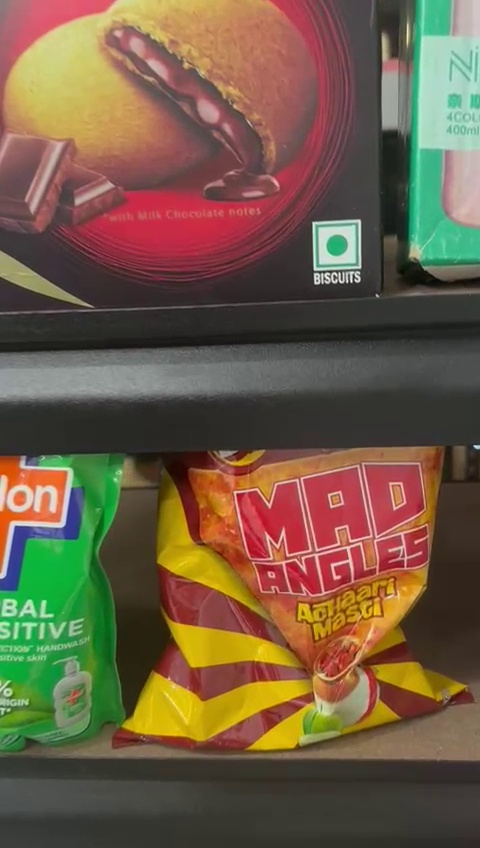Bingo Mad Angles: (155, 446, 449, 749)
